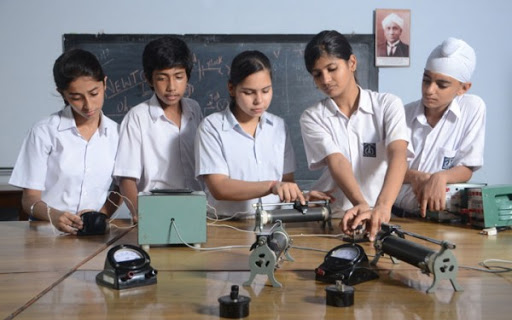Person: (301, 30, 399, 255), (206, 53, 299, 233), (31, 55, 114, 255), (406, 33, 486, 203), (136, 50, 201, 245)
